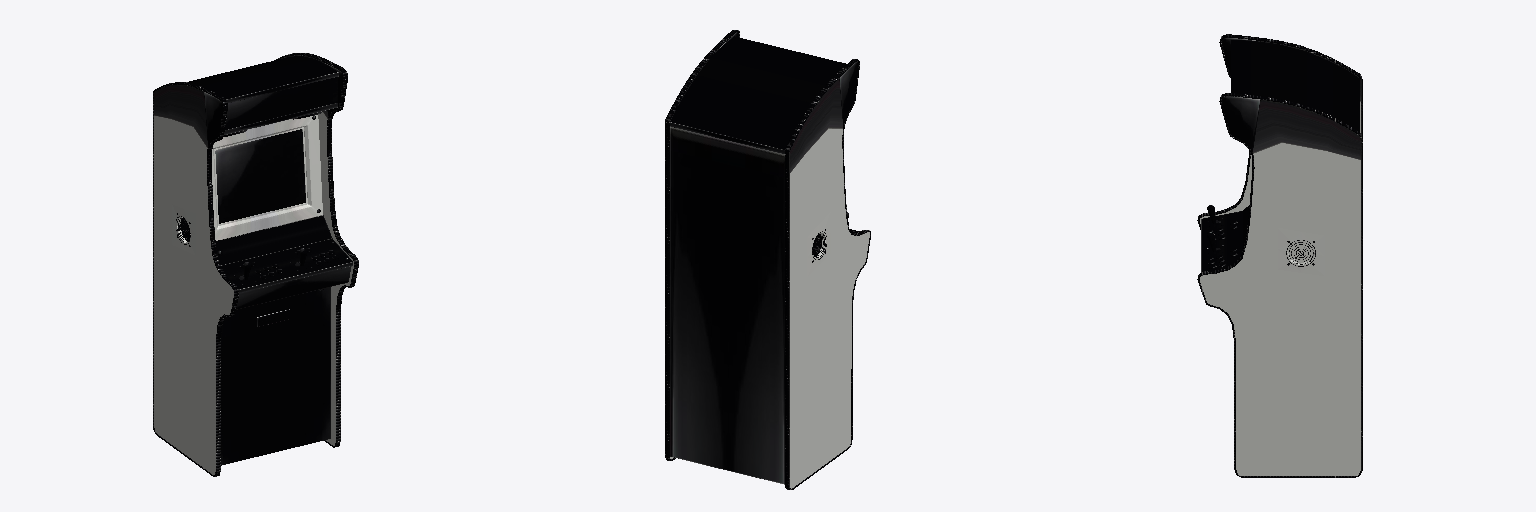
3 renders of one model, left to right at view 1: azimuth 30°, elevation 25°; view 2: azimuth 150°, elevation 25°; view 3: azimuth 270°, elevation 25°, orthographic.
Visible parts, largest first — view 1: Arcade_machine; view 2: Arcade_machine; view 3: Arcade_machine.
Boxes of the visible parts, box(x1,y1,x2,y2) form: Arcade_machine: box(153, 53, 358, 476); Arcade_machine: box(665, 30, 870, 489); Arcade_machine: box(1197, 34, 1362, 477).
Bounding box in the file's own units: 56.32 × 165 × 64.37.
1 materials, 1 textured.